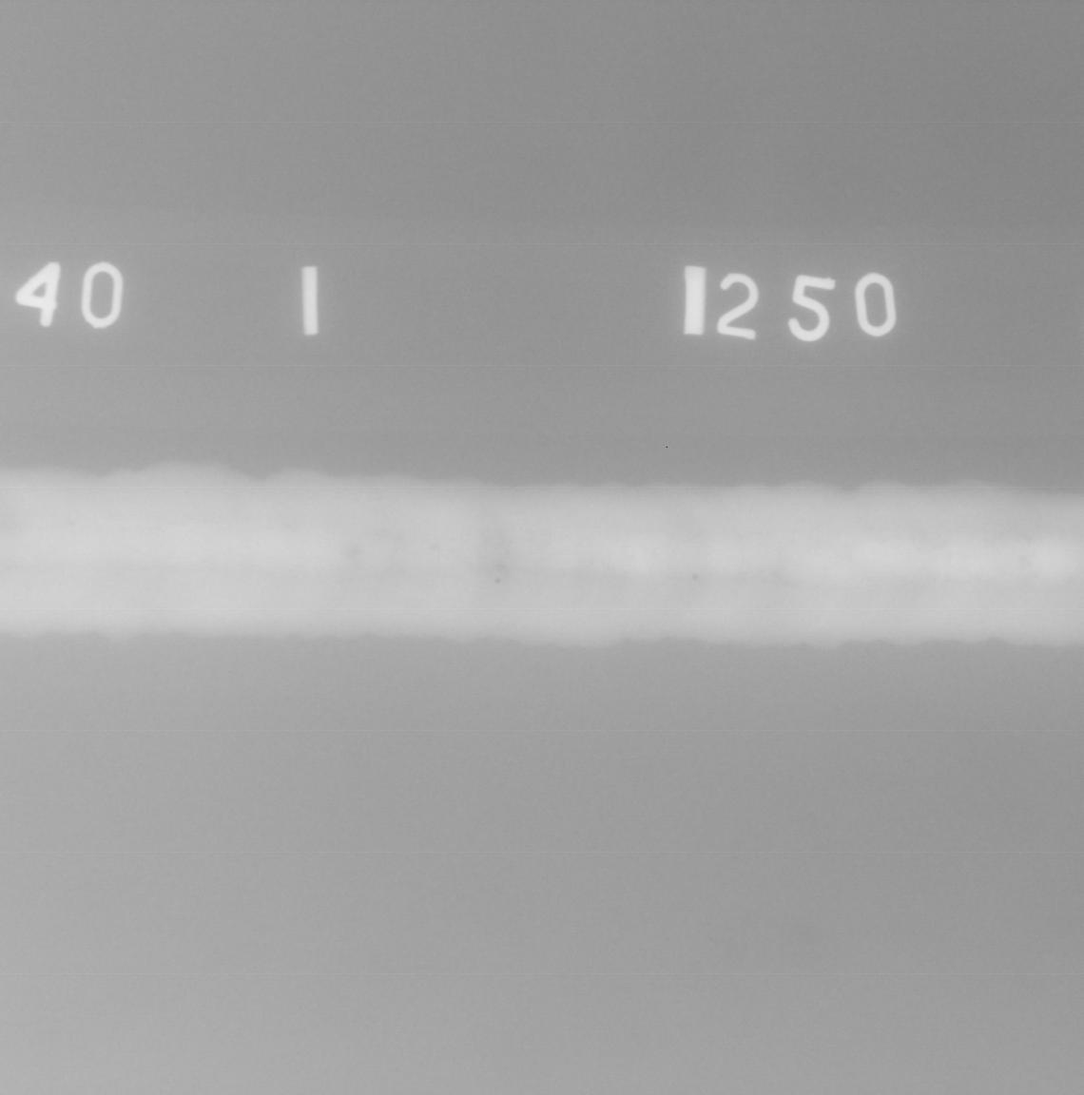Inclusion: (346, 547, 359, 559)
Pore/Porosity: (494, 577, 501, 583), (1022, 556, 1028, 563), (692, 575, 697, 580), (69, 521, 75, 525), (773, 574, 779, 578), (428, 546, 437, 548)
